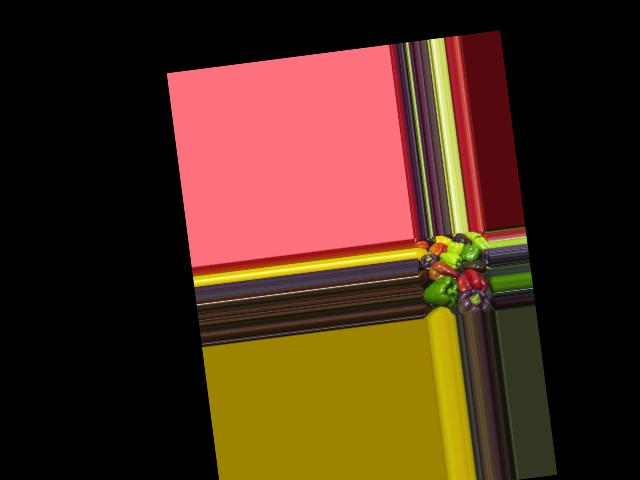bell_pepper: (417, 250, 439, 269)
